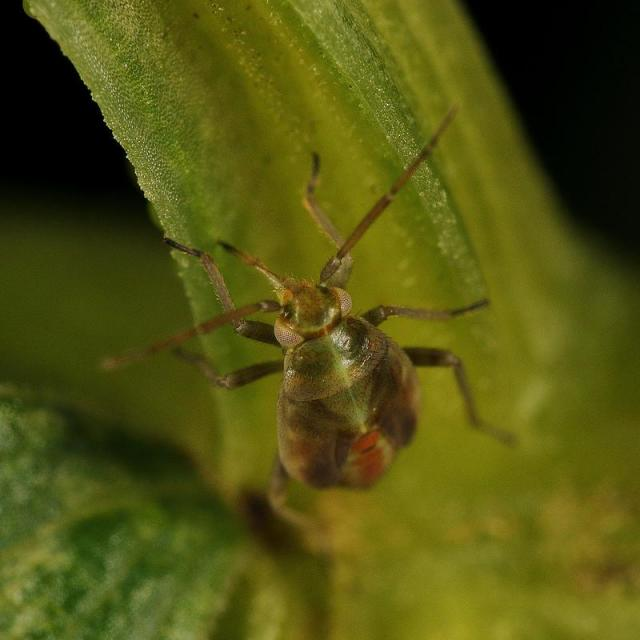Miridae-Adult-: (133, 107, 534, 527)
